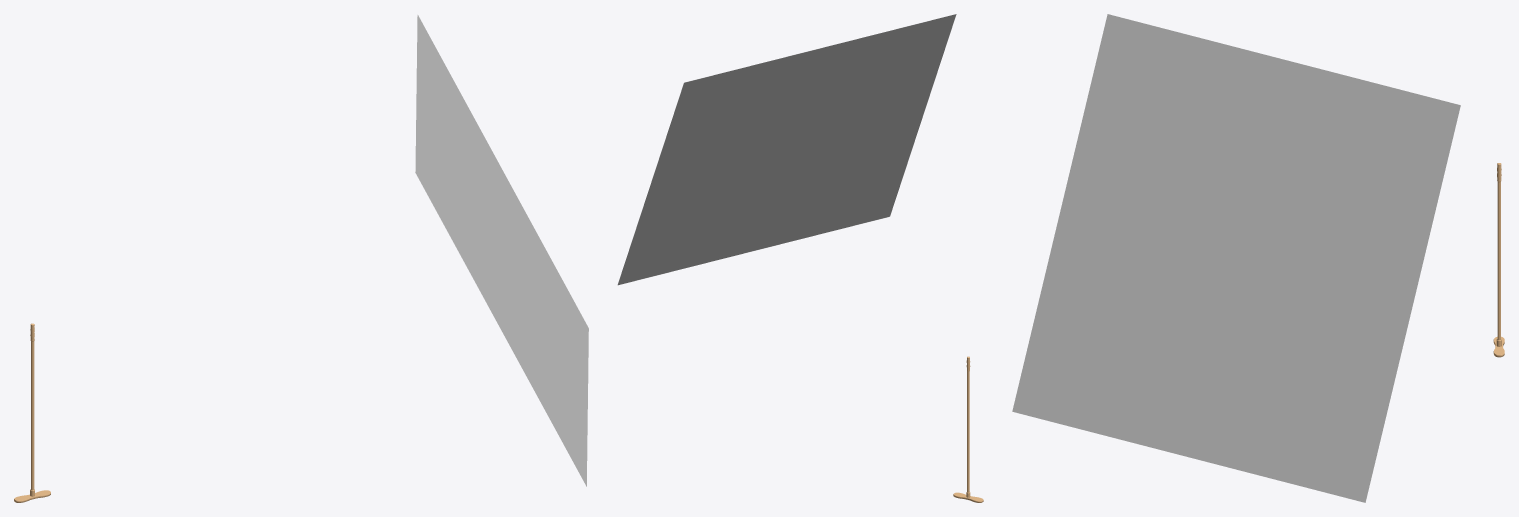
Rendered from broom_model.dae.
3 views of the same model, side by side, from view 1: azimuth 30°, elevation 25°; view 2: azimuth 150°, elevation 25°; view 3: azimuth 270°, elevation 25° (orthographic). The views are drawn at different scales.
Visible parts, largest first — view 1: cameralight, bar; view 2: cameralight, bar; view 3: cameralight, bar.
Boxes of the visible parts, x1,y1,x2,y2 form: cameralight: [415, 15, 588, 486]; bar: [30, 323, 34, 496]; cameralight: [617, 14, 956, 285]; bar: [966, 356, 970, 497]; cameralight: [1012, 14, 1460, 502]; bar: [1496, 163, 1501, 346].
Size of the model in its own units: 4.64 by 3.64 by 3.57.
